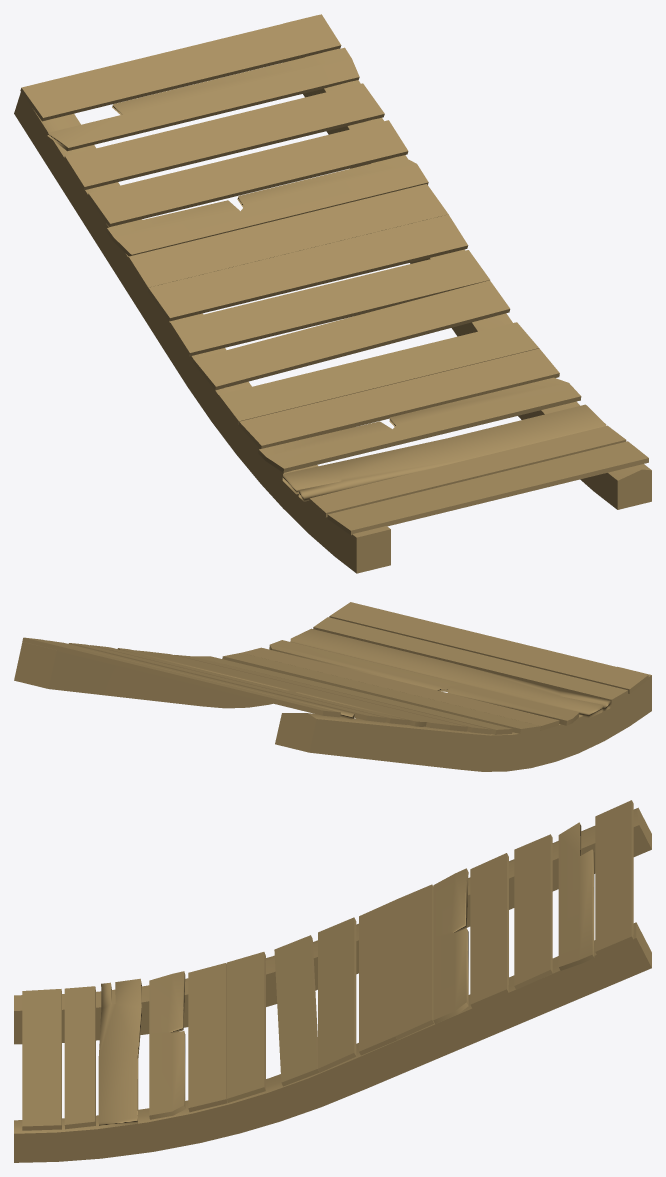
The model's file is Road_Beam_Simple_07.fbx.
The picture shows the model from 3 angles, top to bottom: view 1: azimuth 30°, elevation 25°; view 2: azimuth 150°, elevation 25°; view 3: azimuth 270°, elevation 25°; orthographic projection. The views are drawn at different scales.
Parts seen in each view (by area): view 1: Road_Beam_Simple_07; view 2: Road_Beam_Simple_07; view 3: Road_Beam_Simple_07.
Boxes of the visible parts, x1=… form: Road_Beam_Simple_07: x1=14, y1=14, x2=651, y2=573; Road_Beam_Simple_07: x1=14, y1=602, x2=651, y2=771; Road_Beam_Simple_07: x1=14, y1=800, x2=651, y2=1162.
Bounding box in the file's own units: 147 × 112 × 286.
